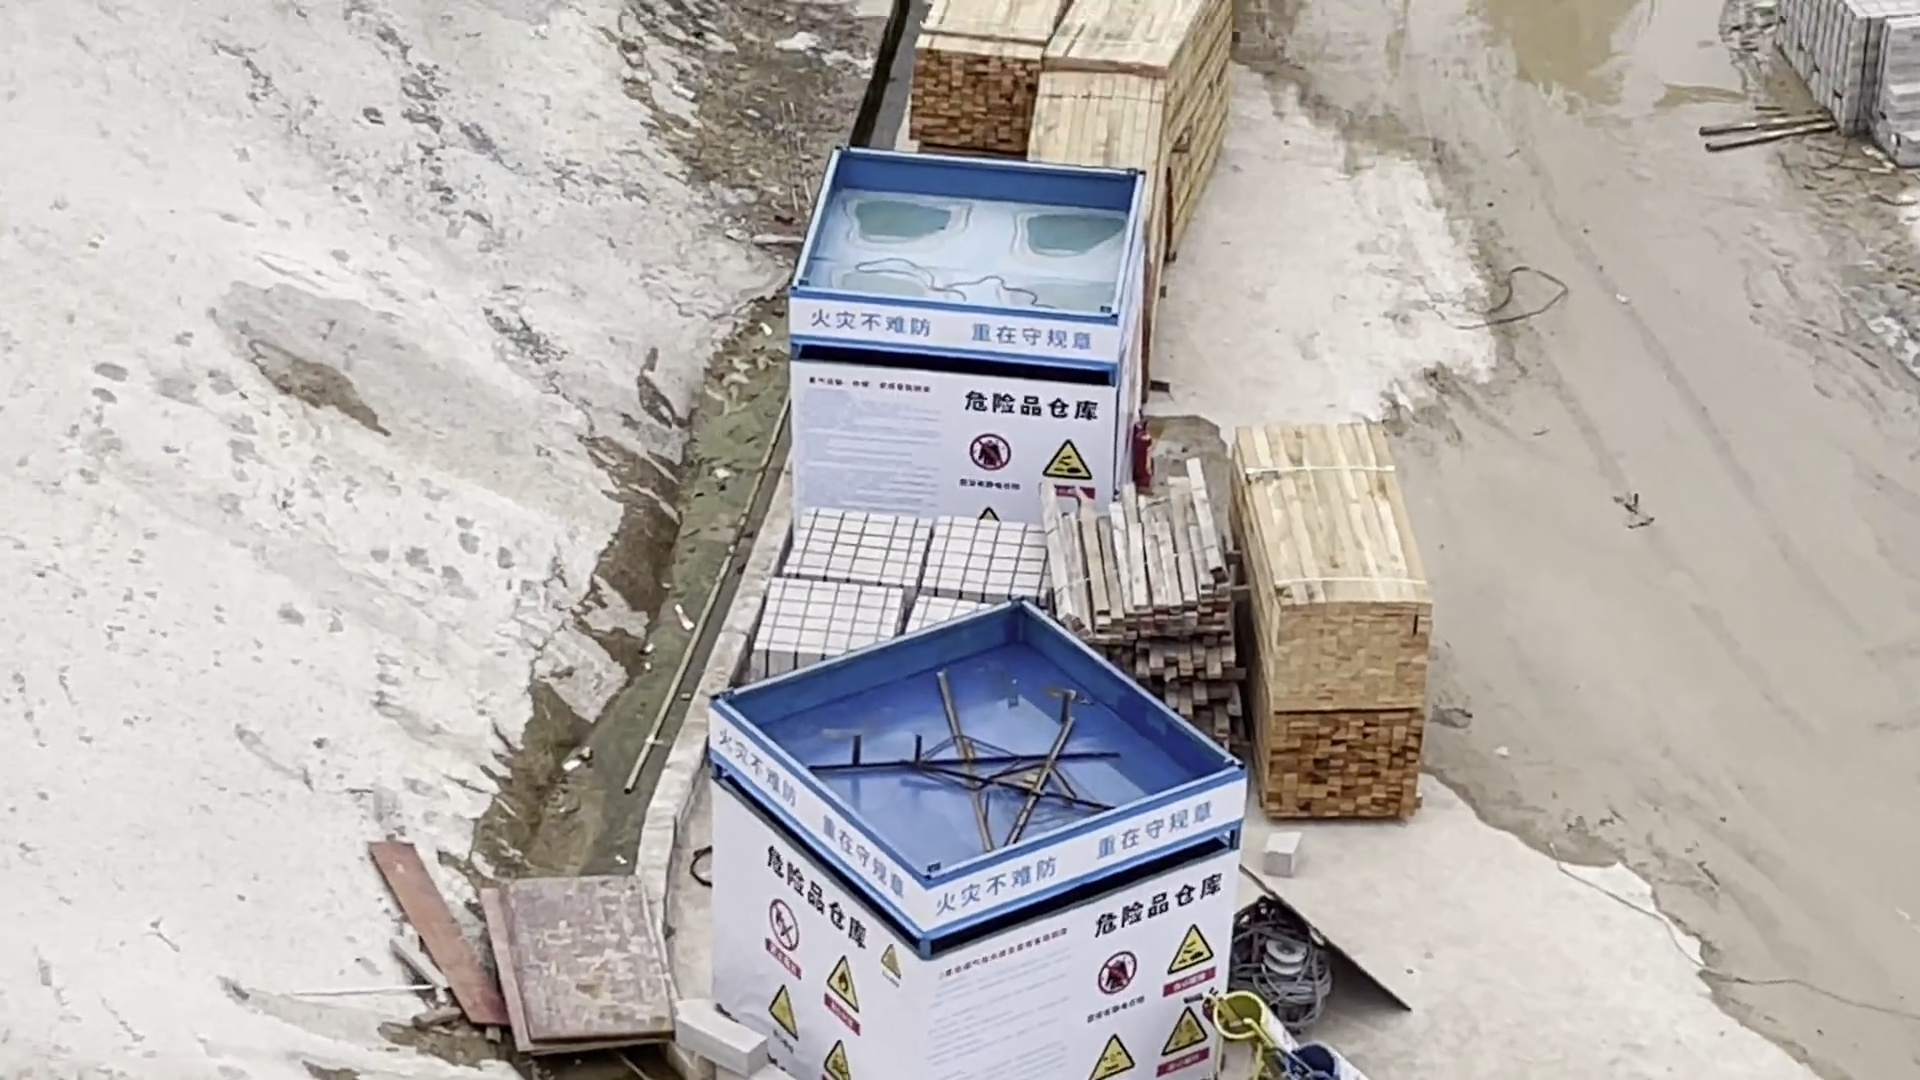slogan: (674, 556, 1241, 1080), (735, 67, 1112, 489)
wood: (1249, 435, 1465, 731), (1058, 487, 1255, 694), (1058, 7, 1244, 225), (1030, 73, 1199, 228), (909, 3, 1044, 164), (1266, 705, 1435, 829)
